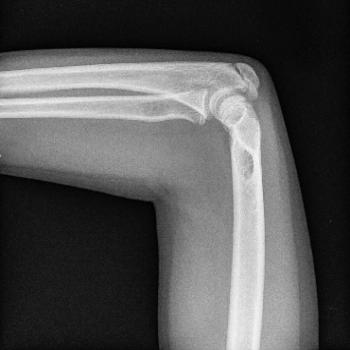Fracture: (230, 60, 265, 96)
